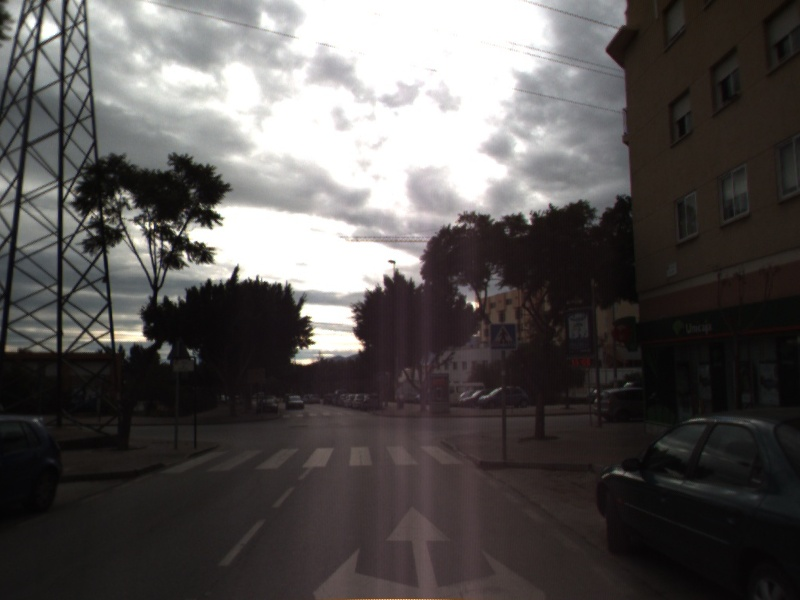STRAIGHT_LEFT_RIGHT: (310, 502, 552, 600)
